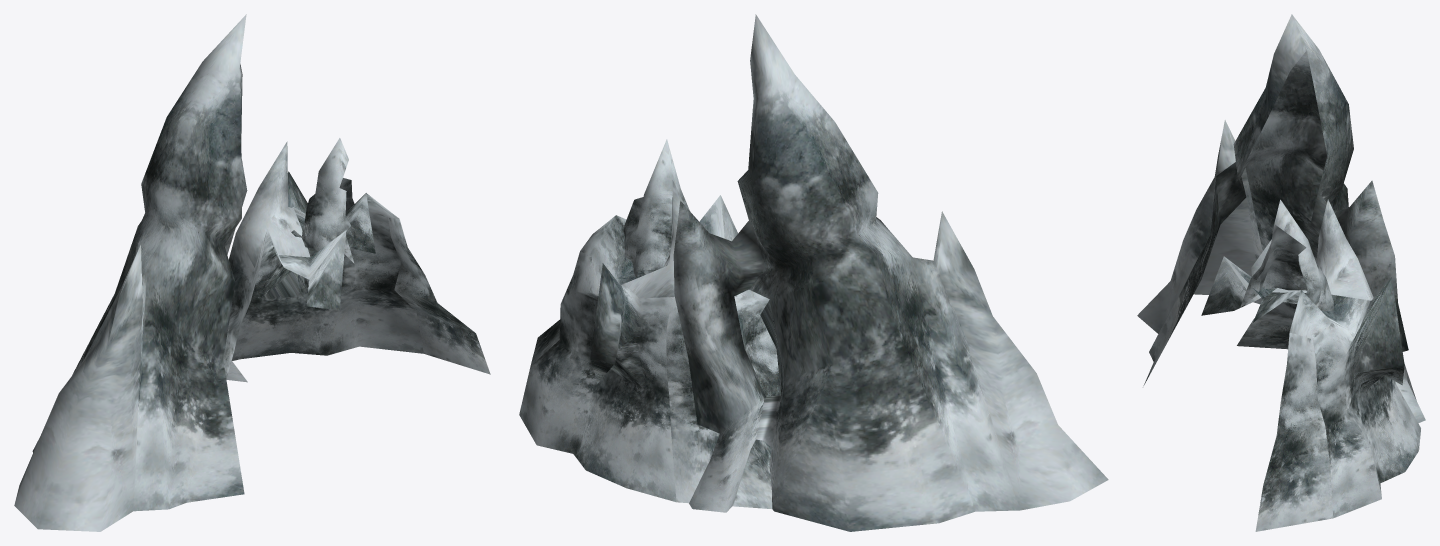
The model's file is S_Rock_White001_7.FBX.
3 views of the same model, side by side, from view 1: azimuth 30°, elevation 25°; view 2: azimuth 150°, elevation 25°; view 3: azimuth 270°, elevation 25° (orthographic). The views are drawn at different scales.
Visible parts, largest first — view 1: S_Rock_White001_7; view 2: S_Rock_White001_7; view 3: S_Rock_White001_7.
Part boxes in pixels (x1=…): S_Rock_White001_7: x1=14, y1=14, x2=490, y2=531; S_Rock_White001_7: x1=519, y1=14, x2=1108, y2=531; S_Rock_White001_7: x1=1137, y1=14, x2=1425, y2=531.
Bounding box in the file's own units: 1189 × 939 × 597.
